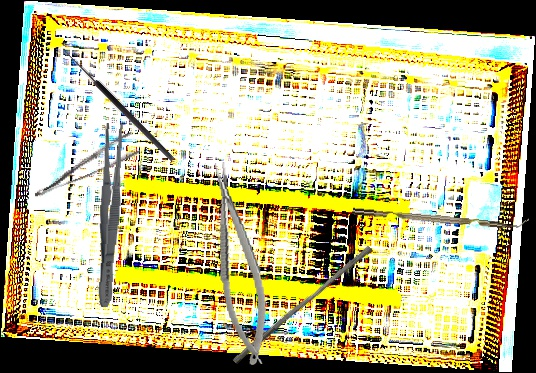Chopper: (352, 199, 529, 233)
Dressing Forceps: (26, 130, 142, 200), (93, 122, 126, 308)
Hook Surgical: (56, 47, 176, 168)
Needle Holder: (203, 159, 276, 368)
Pusher: (232, 240, 373, 370)
